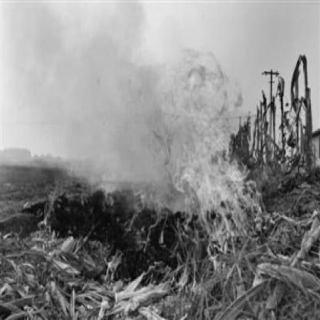Fire: (160, 43, 280, 250)
